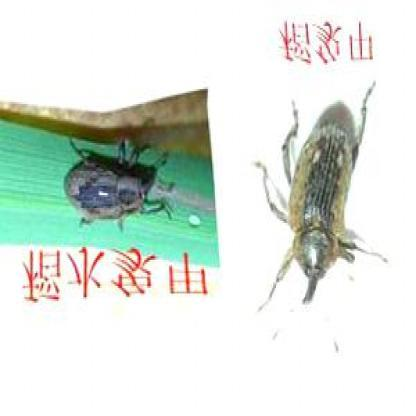rice-bug: (268, 100, 369, 306), (62, 143, 173, 229)
